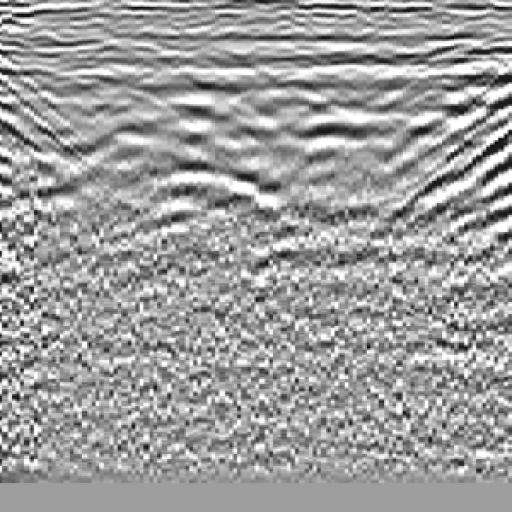metalic: (136, 52, 301, 279)
nonmetalic: (379, 62, 512, 290)
